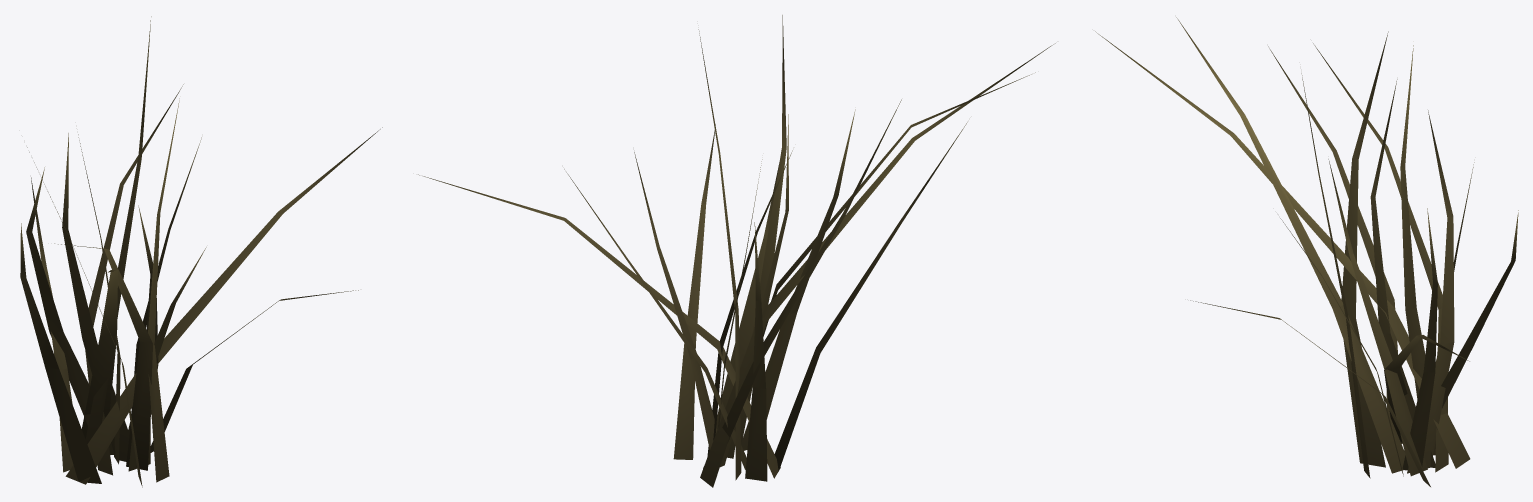
File: grass_clump_dry.glb
3 views of the same model, side by side, from view 1: azimuth 30°, elevation 25°; view 2: azimuth 150°, elevation 25°; view 3: azimuth 270°, elevation 25° (orthographic). The views are drawn at different scales.
Parts seen in each view (by area): view 1: grass_clump_dry; view 2: grass_clump_dry; view 3: grass_clump_dry.
Part boxes in pixels (<box>): grass_clump_dry: <box>20,16,382,487</box>; grass_clump_dry: <box>418,15,1055,487</box>; grass_clump_dry: <box>1095,17,1518,486</box>.
Bounding box in the file's own units: 1.08 × 0.9377 × 0.8283.
